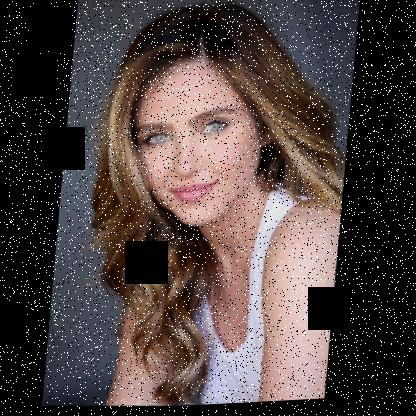Female: (127, 55, 282, 232)
